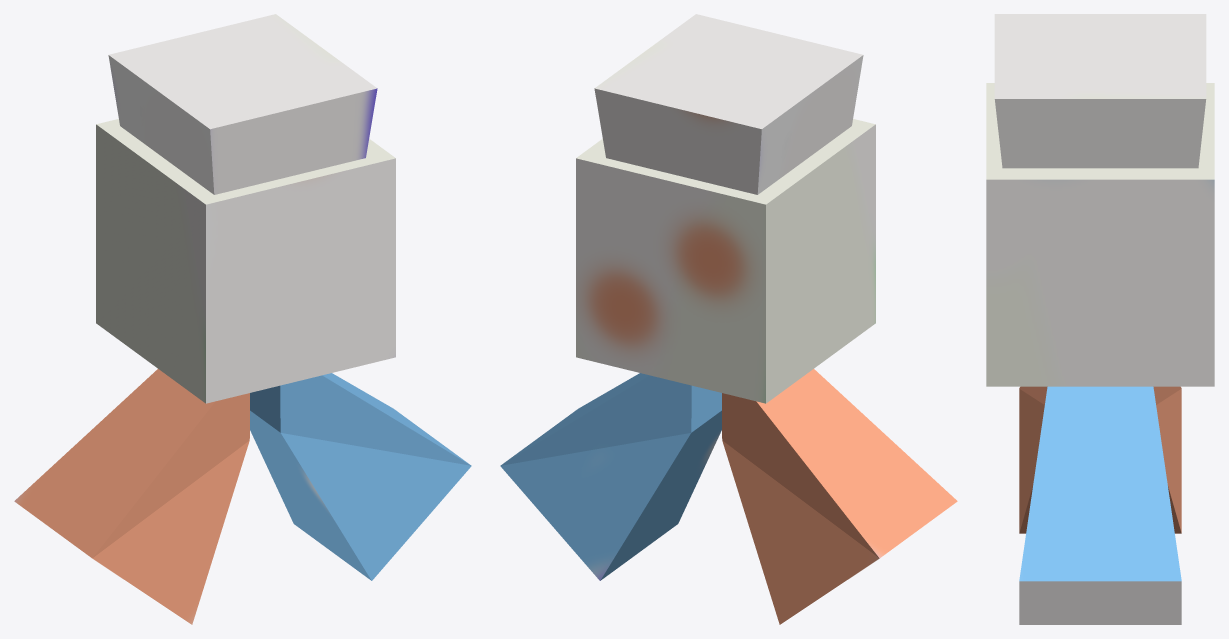
Rendered from player.obj.
3 renders of one model, left to right at view 1: azimuth 30°, elevation 25°; view 2: azimuth 150°, elevation 25°; view 3: azimuth 270°, elevation 25°, orthographic. The views are drawn at different scales.
Visible parts, largest first — view 1: 顔_立方体.004, 身体_立方体, 左腕_立方体.001, 右腕_立方体.003; view 2: 顔_立方体.004, 身体_立方体, 左腕_立方体.001, 右腕_立方体.003; view 3: 顔_立方体.004, 右腕_立方体.003, 身体_立方体, 左腕_立方体.001.
Part boxes in pixels (left/top/right/bottom): 顔_立方体.004: left=96, top=119, right=395, bottom=403; 身体_立方体: left=108, top=14, right=377, bottom=194; 左腕_立方体.001: left=14, top=369, right=249, bottom=624; 右腕_立方体.003: left=250, top=373, right=471, bottom=580; 顔_立方体.004: left=576, top=119, right=875, bottom=403; 身体_立方体: left=594, top=14, right=863, bottom=194; 左腕_立方体.001: left=722, top=369, right=957, bottom=624; 右腕_立方体.003: left=500, top=373, right=721, bottom=580; 顔_立方体.004: left=986, top=83, right=1214, bottom=386; 右腕_立方体.003: left=1019, top=386, right=1181, bottom=624; 身体_立方体: left=994, top=14, right=1206, bottom=168; 左腕_立方体.001: left=1019, top=386, right=1181, bottom=533.
Bounding box in the file's own units: 3.99 × 5.05 × 2.
